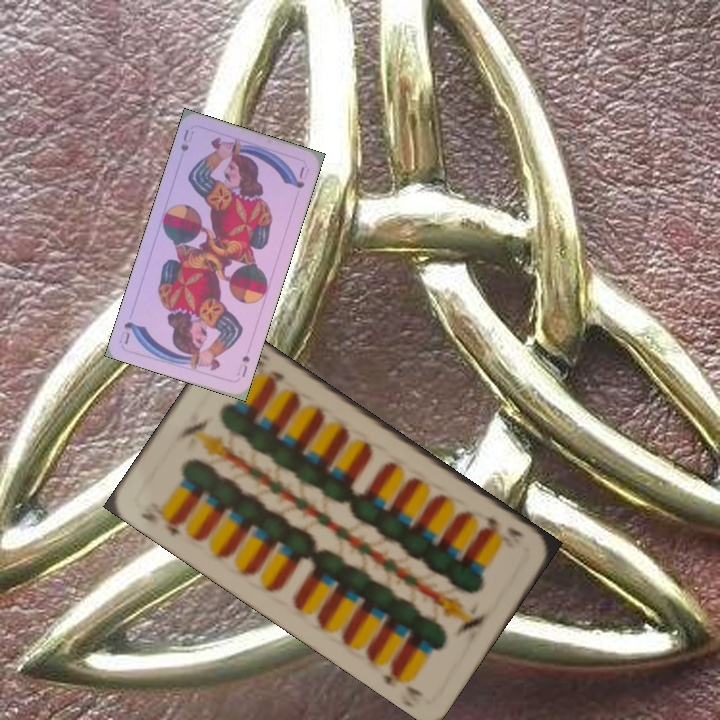E10: (136, 508, 186, 539), (480, 512, 526, 540)
SU: (177, 125, 196, 154), (238, 351, 253, 380)
